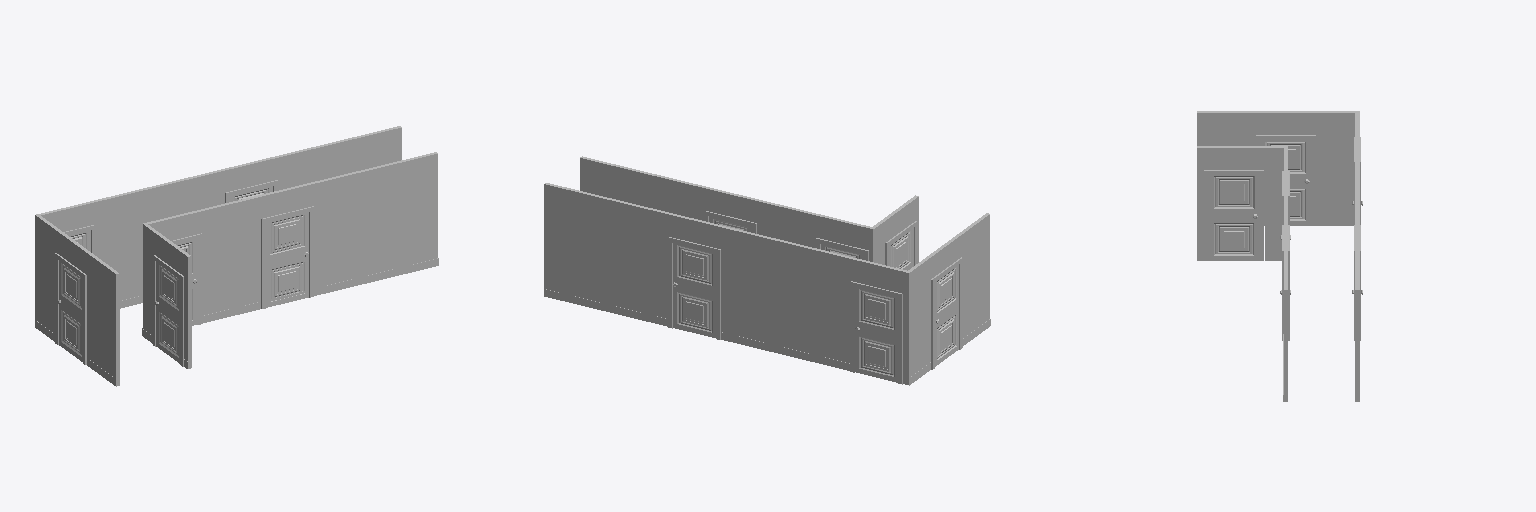
Rendered from Corredor_em_L.obj.
The picture shows the model from 3 angles: view 1: azimuth 30°, elevation 25°; view 2: azimuth 150°, elevation 25°; view 3: azimuth 270°, elevation 25°; orthographic projection.
Parts seen in each view (by area): view 1: Corredor_em_L; view 2: Corredor_em_L; view 3: Corredor_em_L.
Part boxes in pixels (left/top/right/bottom): Corredor_em_L: left=35, top=126, right=438, bottom=386; Corredor_em_L: left=544, top=156, right=990, bottom=385; Corredor_em_L: left=1197, top=111, right=1362, bottom=401.
Size of the model in its own units: 20.5 by 5.97 by 8.01.